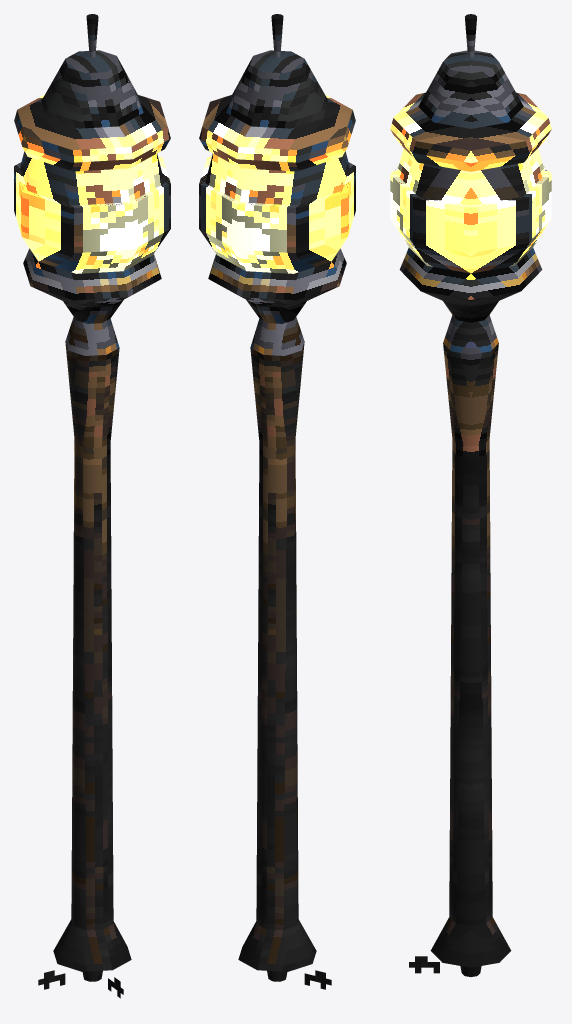
The model's file is lamp-wooden-lantern.glb.
3 views of the same model, side by side, from view 1: azimuth 30°, elevation 25°; view 2: azimuth 150°, elevation 25°; view 3: azimuth 270°, elevation 25° (orthographic).
Visible parts, largest first — view 1: lathe-210-14; view 2: lathe-210-14; view 3: lathe-210-14.
Boxes of the visible parts, <box> form: lathe-210-14: <box>14,14,170,998</box>; lathe-210-14: <box>199,14,355,989</box>; lathe-210-14: <box>390,14,551,976</box>.
Size of the model in its own units: 0.35 by 2.12 by 0.35.
Materials: 1 (1 with a texture image).
